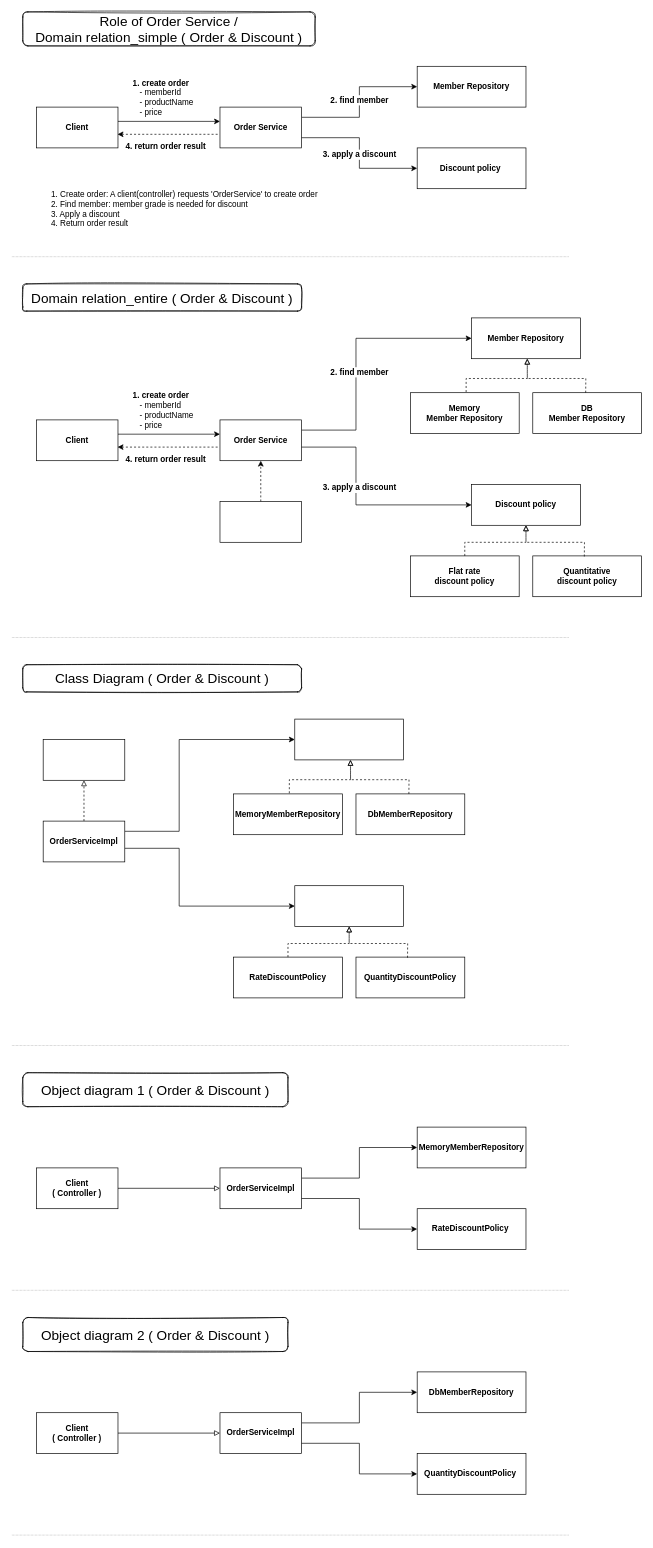
The diagram is 653 pixels wide and 1548 high, and some of its shapes have lost their labels. Here are the shapes that lost their labels. From the top down, the centre of each, then its label:
At (260,521): "Order Service Impl".
At (83,759): "<<interface>> OrderService".
At (349,739): "<<interface>> MemberRepository".
At (349,906): "<<interface>> DiscountPolicy".
